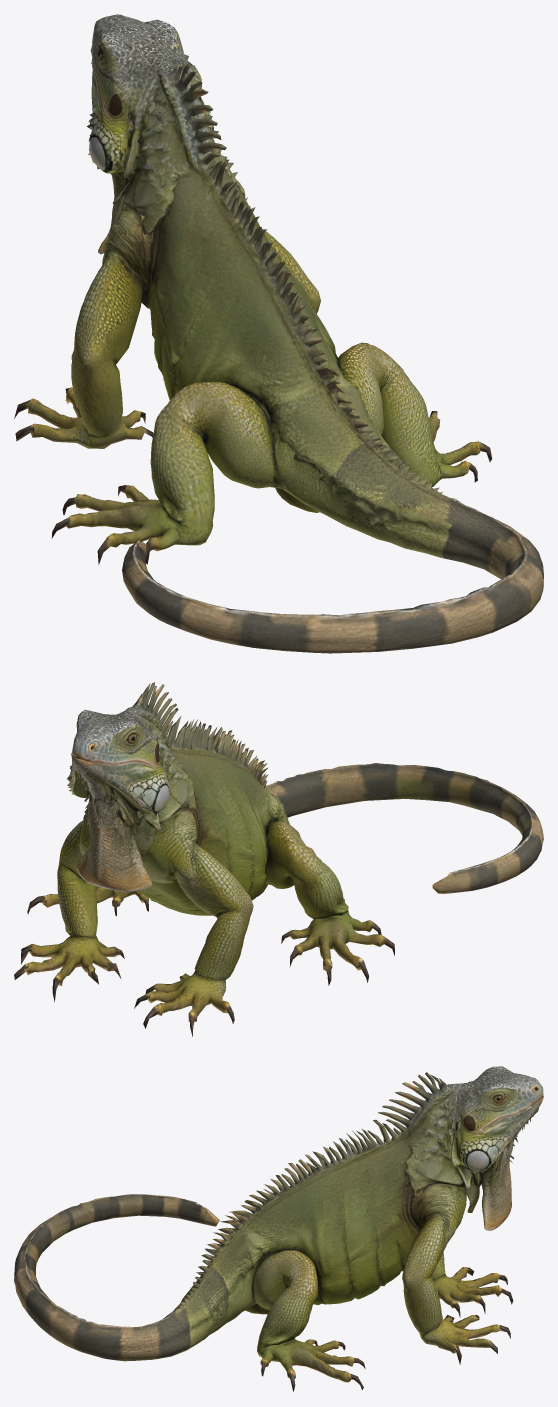
The model's file is iguana-tripo-h31.glb.
3 renders of one model, top to bottom at view 1: azimuth 30°, elevation 25°; view 2: azimuth 150°, elevation 25°; view 3: azimuth 270°, elevation 25°, orthographic. The views are drawn at different scales.
Visible parts, largest first — view 1: tripo_node_8cf7a03b-f898-4eaf-b82a-b16cd3062e65; view 2: tripo_node_8cf7a03b-f898-4eaf-b82a-b16cd3062e65; view 3: tripo_node_8cf7a03b-f898-4eaf-b82a-b16cd3062e65.
Boxes of the visible parts, x1,y1,x2,y2 form: tripo_node_8cf7a03b-f898-4eaf-b82a-b16cd3062e65: [14, 14, 543, 653]; tripo_node_8cf7a03b-f898-4eaf-b82a-b16cd3062e65: [14, 682, 543, 1036]; tripo_node_8cf7a03b-f898-4eaf-b82a-b16cd3062e65: [14, 1066, 543, 1391].
Size of the model in its own units: 0.6672 by 0.5182 by 0.9798.
Materials: 1 (1 with a texture image).
